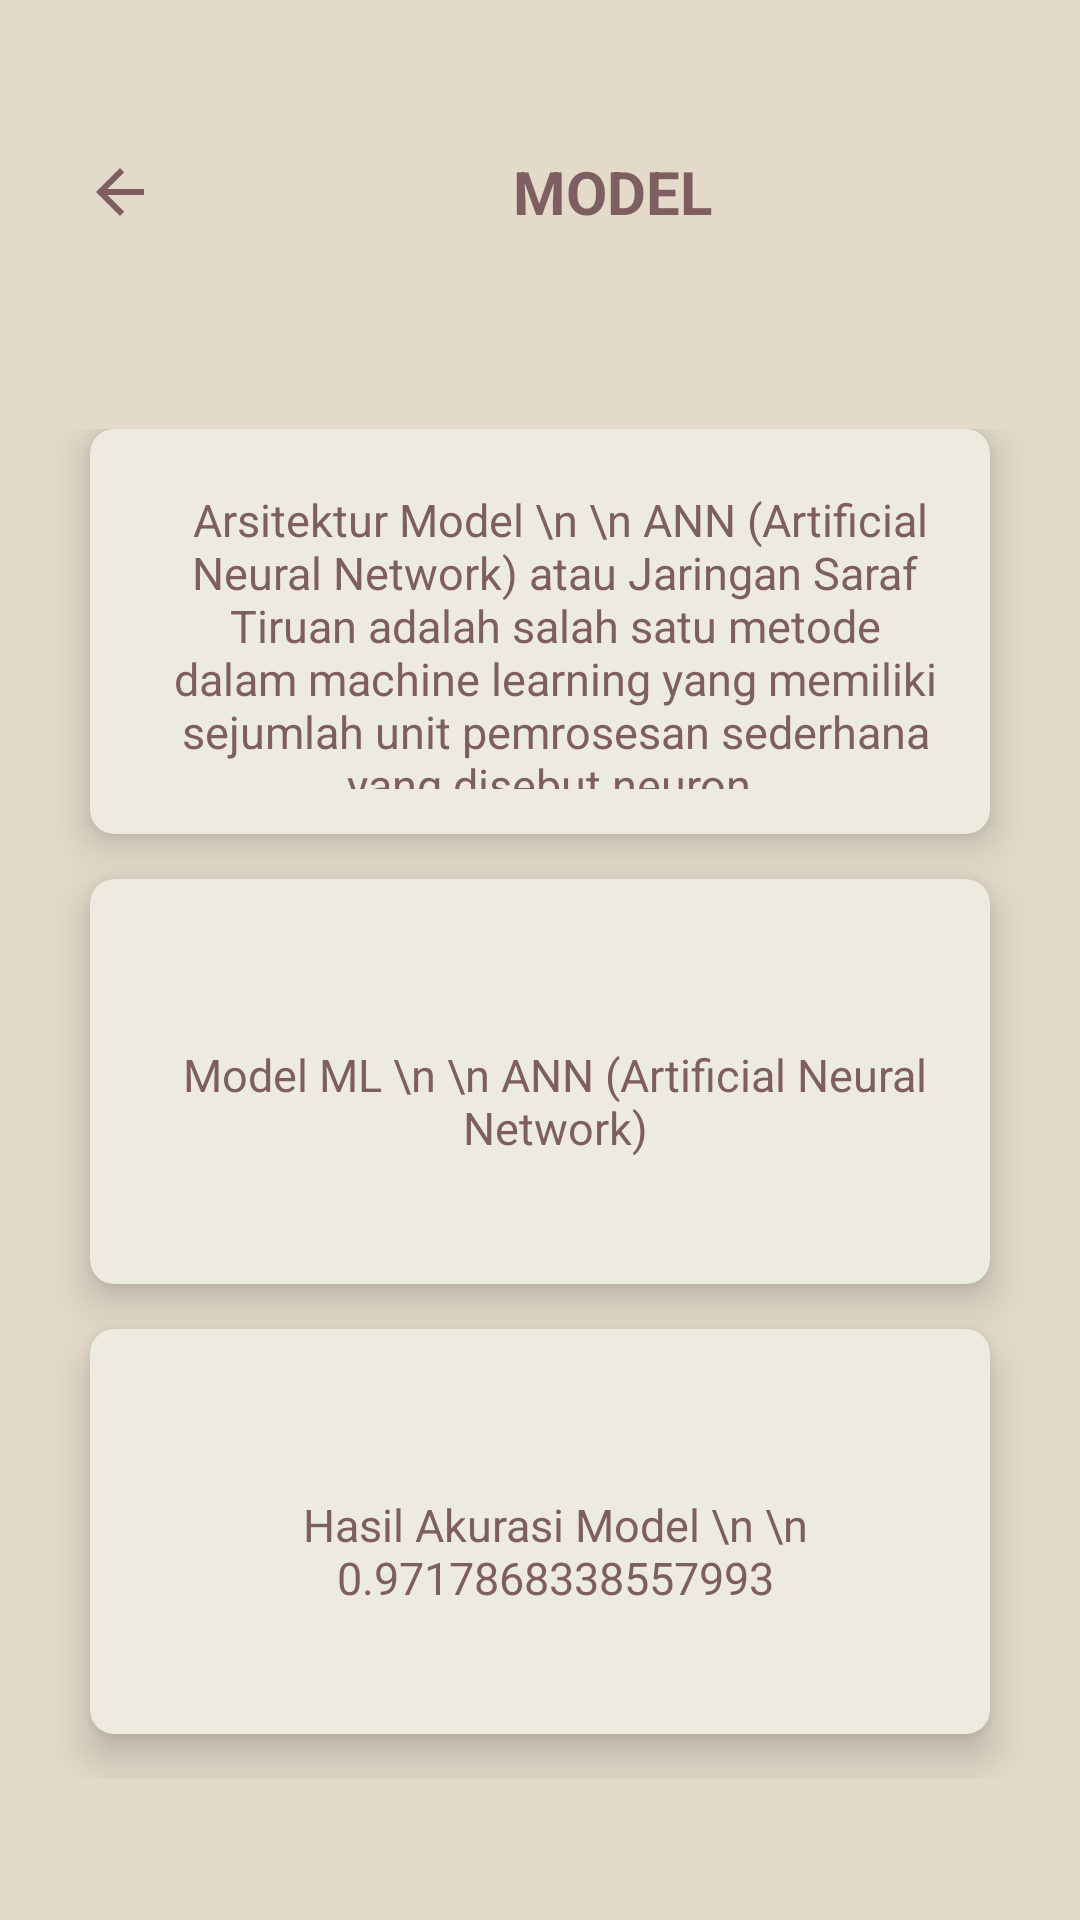

Where icons sit on this 1080 × 1920 app screen, as [x1=x1, y1=y1, x2=x2, y2=y2]:
back: [x1=96, y1=168, x2=144, y2=216]
